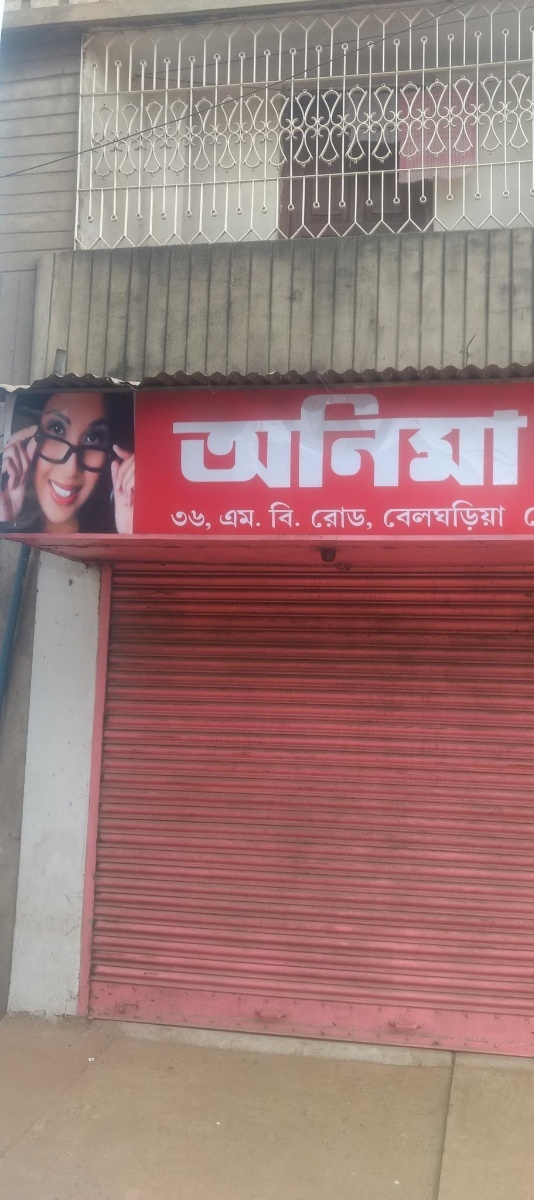text: (177, 373, 192, 492), (193, 373, 208, 492), (209, 373, 224, 492), (225, 373, 240, 492), (241, 373, 256, 492), (257, 373, 272, 492), (273, 373, 288, 492), (289, 373, 304, 492), (305, 373, 320, 492), (321, 373, 336, 492), (337, 373, 352, 492), (353, 373, 368, 492), (369, 373, 384, 492), (385, 373, 400, 492), (401, 373, 416, 492), (417, 373, 432, 492), (433, 373, 448, 492), (449, 373, 464, 492), (465, 373, 480, 492), (481, 373, 496, 492), (497, 373, 512, 492), (513, 373, 528, 492), (385, 496, 400, 533), (401, 496, 416, 533), (417, 496, 432, 533), (433, 496, 448, 533), (449, 496, 464, 533), (465, 496, 480, 533), (481, 496, 496, 533), (321, 503, 336, 534), (337, 503, 352, 534), (353, 503, 368, 534), (273, 500, 288, 529), (289, 500, 304, 529), (497, 496, 507, 533), (173, 373, 176, 492), (529, 373, 532, 492), (177, 508, 192, 531), (193, 508, 208, 531), (225, 509, 240, 530), (241, 509, 256, 530), (311, 503, 320, 534), (209, 508, 220, 531), (369, 503, 376, 534), (168, 508, 176, 531), (267, 500, 272, 529), (529, 506, 534, 528), (257, 509, 262, 530), (220, 509, 224, 530)
